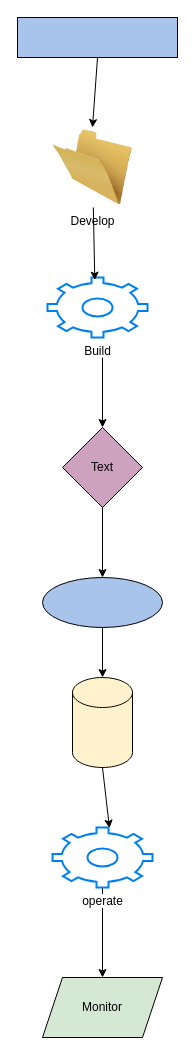
The diagram is 195 pixels wide and 1055 high, and some of its shapes have lost their labels. Here are the shapes that lost their labels. From the top down, the box of each, then its label:
(16, 16, 178, 58): Plan
(42, 576, 162, 628): Realese
(72, 676, 132, 768): Deploy
